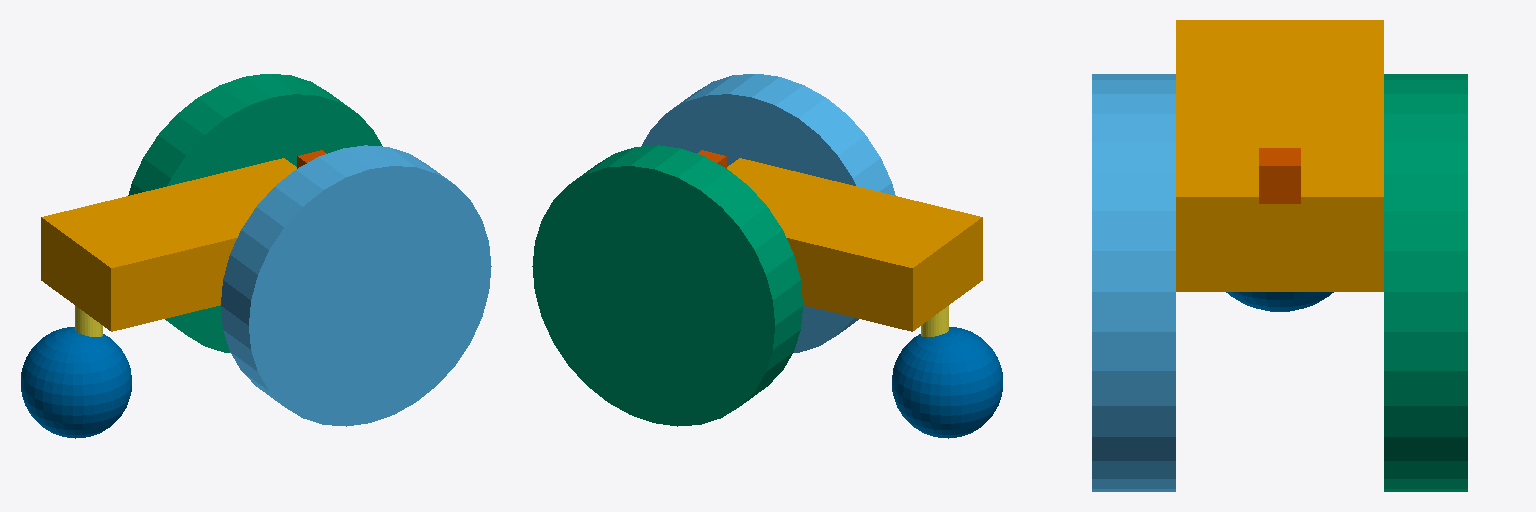
URDF robot description (drivebot):
<?xml version="1.0"?>
<robot name="drivebot">

  <link name="chassis">
    <visual>
      <geometry>
        <box size="1 0.5 0.25"/>
      </geometry>
      <origin rpy="0 0 0" xyz="0 0 0"/>
    </visual>
    <collision>
      <geometry>
        <box size="1 0.5 0.25"/>
      </geometry>
      <origin rpy="0 0 0" xyz="0 0 0"/>
    </collision>
    <inertial>
      <mass value="2"/>
      <inertia ixx="0.0104" ixy="0.0" ixz="0.0" iyy="0.04166" iyz="0.0" izz="0.05208"/>
      <origin rpy="0 0 0" xyz="0 0 0"/>
    </inertial>
  </link>

  <link name="right_wheel">
    <visual>
      <geometry>
        <cylinder length="0.2" radius="0.5"/>
      </geometry>
      <origin rpy="1.57075 0 0" xyz="0 -0.1 0"/>
    </visual>
    <collision>
      <geometry>
        <cylinder length="0.2" radius="0.5"/>
      </geometry>
      <origin rpy="1.57075 0 0" xyz="0 -0.1 0"/>
    </collision>
    <inertial>
      <mass value="0.25"/>
      <inertia ixx="0.047375" ixy="0.0" ixz="0.0" iyy="0.011844" iyz="0.0" izz="0.0078125"/>
      <origin rpy="1.57075 0 0" xyz="0 -0.1 0"/>
    </inertial>
  </link>

  <link name="left_wheel">
    <visual>
      <geometry>
        <cylinder length="0.2" radius="0.5"/>
      </geometry>
      <origin rpy="1.57075 0 0" xyz="0 0.1 0"/>
    </visual>
    <collision>
      <geometry>
        <cylinder length="0.2" radius="0.5"/>
      </geometry>
      <origin rpy="1.57075 0 0" xyz="0 0.1 0"/>
    </collision>
    <inertial>
      <mass value="0.25"/>
      <inertia ixx="0.047375" ixy="0.0" ixz="0.0" iyy="0.011844" iyz="0.0" izz="0.0078125"/>
      <origin rpy="1.57075 0 0" xyz="0 0.1 0"/>
    </inertial>
  </link>

  <link name="rear_wheel_support">
    <visual>
      <geometry>
        <cylinder length="0.30" radius="0.05"/>
      </geometry>
      <origin rpy="0 0 0" xyz="0 0 -0.15"/>
    </visual>
    <collision>
      <geometry>
        <cylinder length="0.30" radius="0.05"/>
      </geometry>
      <origin rpy="0 0 0" xyz="0 0 -0.15"/>
    </collision>
    <inertial>
      <mass value="0.01"/>
      <inertia ixx="0.00003958" ixy="0.0" ixz="0.0" iyy="0.00003958" iyz="0.0" izz="0.0000125"/>
      <origin rpy="0 0 0" xyz="0 0 -0.15"/>
    </inertial>
  </link>

  <link name="rear_wheel">
    <visual>
      <geometry>
        <sphere radius="0.20"/>
      </geometry>
      <origin rpy="0 0 0" xyz="0 0 0"/>
    </visual>
    <collision>
      <geometry>
        <sphere radius="0.20"/>
      </geometry>
      <origin rpy="0 0 0" xyz="0 0 0"/>
    </collision>
    <inertial>
      <mass value="0.30"/>
      <inertia ixx="0.005" ixy="0.0" ixz="0.0" iyy="0.005" iyz="0.0" izz="0.005"/>
      <origin rpy="0 0 0" xyz="0 0 0"/>
    </inertial>
  </link>

  <link name="camera_link">
    <visual>
      <geometry>
        <box size="0.1016 0.1016 0.1016"/>
      </geometry>
      <origin rpy="0 0 0" xyz="0 0 0.0508"/>
    </visual>
    <collision>
      <geometry>
        <box size="0.1016 0.1016 0.1016"/>
      </geometry>
      <origin rpy="0 0 0" xyz="0 0 0.0508"/>
    </collision>
    <inertial>
      <mass value="0.113398093"/>
      <inertia ixx="0.0001950931" ixy="0.0" ixz="0.0" iyy="0.0001950931" iyz="0.0" izz="0.0001950931"/>
      <origin rpy="0 0 0" xyz="0 0 0.0508"/>
    </inertial>
  </link>


  <joint name="chassis_to_right_wheel" type="continuous">
    <parent link="chassis"/>
    <child link="left_wheel"/>
    <origin rpy="0 0 0" xyz="0.45 0.25 -0.125"/>
    <axis xyz="0 1 0"/>
    <limit effort="100" velocity="100"/>
    <dynamics damping="0.0001"/>
  </joint>

  <joint name="chassis_to_left_wheel" type="continuous">
    <parent link="chassis"/>
    <child link="right_wheel"/>
    <origin rpy="0 0 0" xyz="0.45 -0.25 -0.125"/>
    <axis xyz="0 1 0"/>
    <limit effort="100" velocity="100"/>
    <dynamics damping="0.0001"/>
  </joint>

  <joint name="chassis_to_rear_wheel_support" type="continuous">
    <parent link="chassis"/>
    <child link="rear_wheel_support"/>
    <origin rpy="0 0 0" xyz="-0.45 0 -0.125"/>
    <axis xyz="0 0 1"/>
    <limit effort="100" velocity="100"/>
    <dynamics damping="0.0001"/>
  </joint>

  <joint name="rear_wheel_support_to_rear_wheel" type="continuous">
    <parent link="rear_wheel_support"/>
    <child link="rear_wheel"/>
    <origin rpy="0 0 0" xyz="-0.05 0 -0.30"/>
    <axis xyz="0 1 0"/>
    <limit effort="100" velocity="100"/>
    <dynamics damping="0.0001"/>
  </joint>

  <joint name="chassis_to_camera_link" type="fixed">
    <parent link="chassis"/>
    <child link="camera_link"/>
    <origin rpy="0 0 0" xyz="0.49 0 0.125"/>
  </joint>

  <gazebo reference="chassis">
    <material>Gazebo/Black</material>
  </gazebo>

  <gazebo reference="right_wheel">
    <mu1>1.0</mu1>
    <mu2>1.0</mu2>
    <kp>10000000.0</kp>
    <kd>1.0</kd>
    <material>Gazebo/Orange</material>
  </gazebo>

  <gazebo reference="left_wheel">
    <mu1>1.0</mu1>
    <mu2>1.0</mu2>
    <kp>10000000.0</kp>
    <kd>1.0</kd>
    <material>Gazebo/Orange</material>
  </gazebo>

  <gazebo reference="rear_wheel_support">
    <mu1>1.0</mu1>
    <mu2>1.0</mu2>
    <kp>10000000.0</kp>
    <kd>1.0</kd>
    <material>Gazebo/White</material>
  </gazebo>

  <gazebo reference="rear_wheel">
    <mu1>1.0</mu1>
    <mu2>1.0</mu2>
    <kp>10000000.0</kp>
    <kd>1.0</kd>
    <material>Gazebo/Orange</material>
  </gazebo>

  <gazebo reference="camera_link">
    <material>Gazebo/Red</material>
    <sensor type="camera" name="camera1">
      <update_rate>30.0</update_rate>
      <camera name="head">
        <horizontal_fov>1.3962634</horizontal_fov>
        <image>
          <width>800</width>
          <height>800</height>
          <format>R8G8B8</format>
        </image>
        <clip>
          <near>0.02</near>
          <far>300</far>
        </clip>
        <noise>
          <type>gaussian</type>
          <!-- Noise is sampled independently per pixel on each frame.
               That pixel's noise value is added to each of its color
               channels, which at that point lie in the range [0,1]. -->
          <mean>0.0</mean>
          <stddev>0.007</stddev>
        </noise>
      </camera>
      <plugin name="camera_controller" filename="libgazebo_ros_camera.so">
        <alwaysOn>true</alwaysOn>
        <updateRate>0.0</updateRate>
        <cameraName>drivebot/camera1</cameraName>
        <imageTopicName>image_raw</imageTopicName>
        <cameraInfoTopicName>camera_info</cameraInfoTopicName>
        <frameName>camera_link</frameName>
        <hackBaseline>0.07</hackBaseline>
        <distortionK1>0.0</distortionK1>
        <distortionK2>0.0</distortionK2>
        <distortionK3>0.0</distortionK3>
        <distortionT1>0.0</distortionT1>
        <distortionT2>0.0</distortionT2>
      </plugin>
    </sensor>
  </gazebo>

  <gazebo>
    <plugin name="front_wheel_differential_drive_controller" filename="libgazebo_ros_diff_drive.so">
      <legacyMode>true</legacyMode>
      <alwaysOn>true</alwaysOn>
      <updateRate>100</updateRate>
      <leftJoint>chassis_to_left_wheel</leftJoint>
      <rightJoint>chassis_to_right_wheel</rightJoint>
      <wheelSeparation>0.5</wheelSeparation>
      <wheelDiameter>0.25</wheelDiameter>
      <torque>20</torque>
      <commandTopic>cmd_vel</commandTopic>
      <odometryTopic>odom</odometryTopic>
      <odometryFrame>odom</odometryFrame>
      <robotBaseFrame>chassis</robotBaseFrame>
    </plugin>
  </gazebo>

</robot>

--- Render facts (derived) ---
Views: 3 orthographic renders of the robot side by side, from view 1: azimuth 30°, elevation 25°; view 2: azimuth 150°, elevation 25°; view 3: azimuth 270°, elevation 25°.
Robot: drivebot — 6 links, 5 joints (4 continuous, 1 fixed); root link chassis; default pose: all joints at 0.
Links seen in each view (by area): view 1: right_wheel, chassis, left_wheel, rear_wheel, rear_wheel_support; view 2: left_wheel, chassis, right_wheel, rear_wheel, rear_wheel_support; view 3: chassis, right_wheel, left_wheel, camera_link, rear_wheel.
Boxes of the visible links, x1=… form: right_wheel: x1=221, y1=145, x2=491, y2=426; chassis: x1=41, y1=158, x2=296, y2=331; left_wheel: x1=128, y1=74, x2=382, y2=352; rear_wheel: x1=21, y1=327, x2=131, y2=438; rear_wheel_support: x1=75, y1=306, x2=102, y2=336; left_wheel: x1=532, y1=145, x2=802, y2=426; chassis: x1=727, y1=158, x2=982, y2=331; right_wheel: x1=641, y1=74, x2=895, y2=352; rear_wheel: x1=892, y1=327, x2=1002, y2=438; rear_wheel_support: x1=921, y1=306, x2=948, y2=336; chassis: x1=1176, y1=20, x2=1383, y2=291; right_wheel: x1=1092, y1=74, x2=1175, y2=491; left_wheel: x1=1384, y1=74, x2=1467, y2=491; camera_link: x1=1259, y1=148, x2=1300, y2=203; rear_wheel: x1=1226, y1=292, x2=1333, y2=311.
Size in the robot's own frame: 1.65 by 0.9 by 1 metres.
Geometry: primitives only (box / cylinder / sphere), no mesh files.